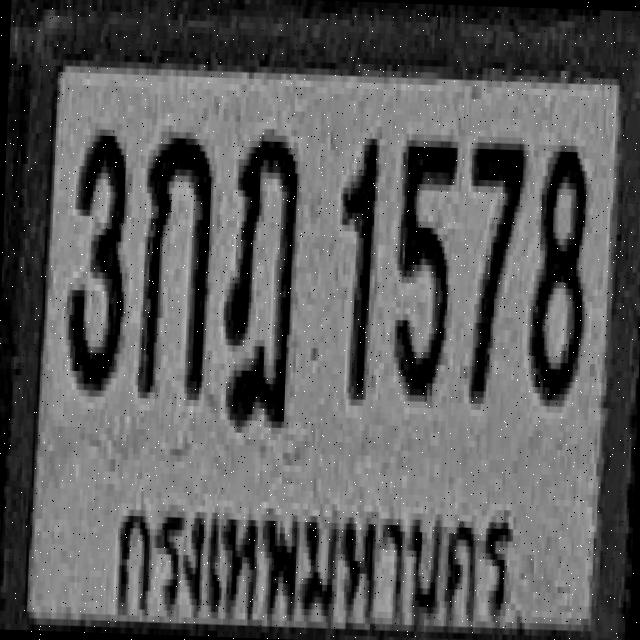1: (334, 131, 379, 399)
10GorGai: (136, 128, 214, 396)
23DorChaDa: (220, 130, 300, 424)
3: (64, 125, 130, 388)
5: (392, 133, 458, 396)
7: (464, 132, 526, 402)
8: (526, 138, 589, 401)
Bangkok: (107, 487, 525, 640)
